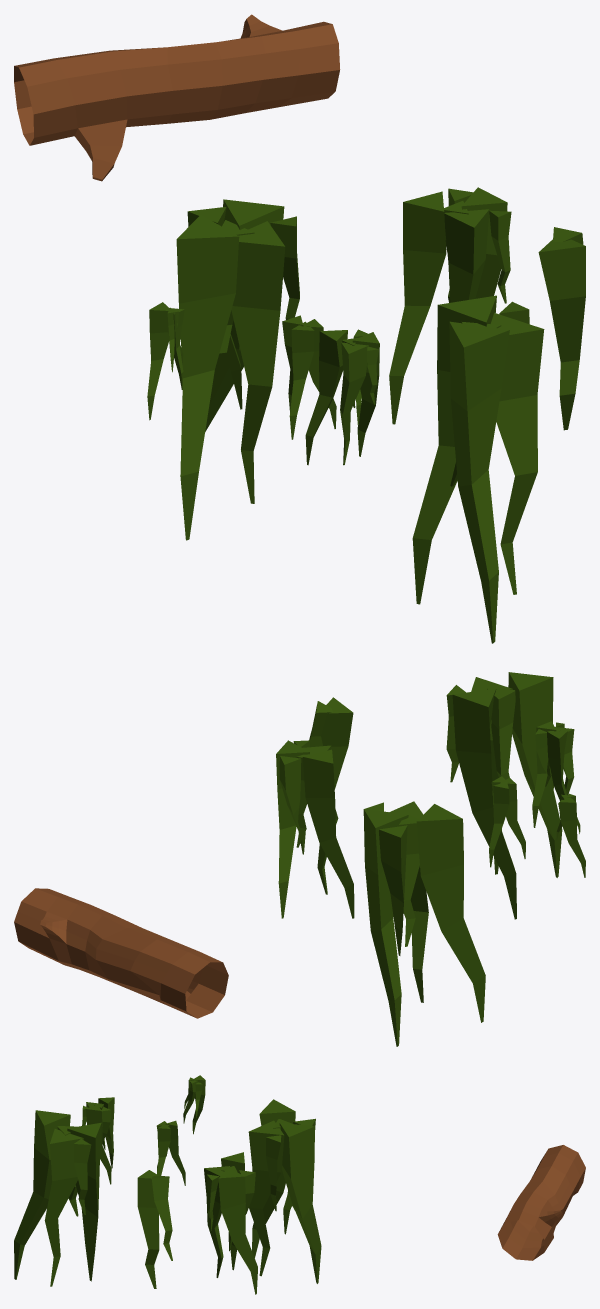
The model's file is greass tree.glb.
The picture shows the model from 3 angles, top to bottom: view 1: azimuth 30°, elevation 25°; view 2: azimuth 150°, elevation 25°; view 3: azimuth 270°, elevation 25°; orthographic projection. The views are drawn at different scales.
Visible parts, largest first — view 1: Cylinder.001, Circle, Cylinder, Cylinder.002, Cylinder.003; view 2: Cylinder.001, Cylinder, Circle, Cylinder.002, Cylinder.003; view 3: Cylinder.001, Cylinder, Circle, Cylinder.002, Cylinder.003.
Part boxes in pixels (x1,y1,x2,y2): Cylinder.001: (147, 227, 585, 643); Circle: (14, 14, 340, 181); Cylinder: (176, 199, 299, 540); Cylinder.002: (389, 187, 511, 424); Cylinder.003: (305, 329, 379, 465); Cylinder.001: (309, 672, 585, 919); Cylinder: (363, 801, 485, 1046); Circle: (14, 888, 228, 1018); Cylinder.002: (276, 740, 354, 918); Cylinder.003: (532, 721, 574, 827); Cylinder.001: (14, 1075, 205, 1288); Cylinder: (248, 1099, 321, 1283); Circle: (497, 1145, 585, 1260); Cylinder.002: (204, 1152, 257, 1294); Cylinder.003: (82, 1097, 114, 1184).
Size of the model in its own units: 14.9 by 9.51 by 26.96.
